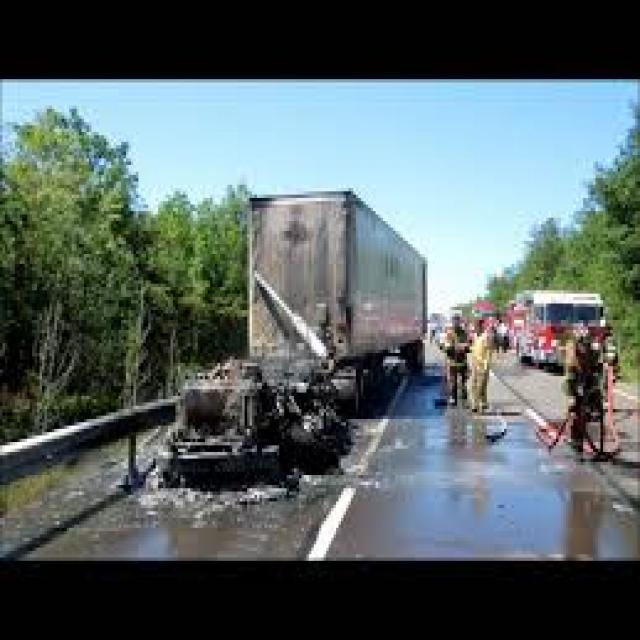accident: (148, 171, 444, 523)
